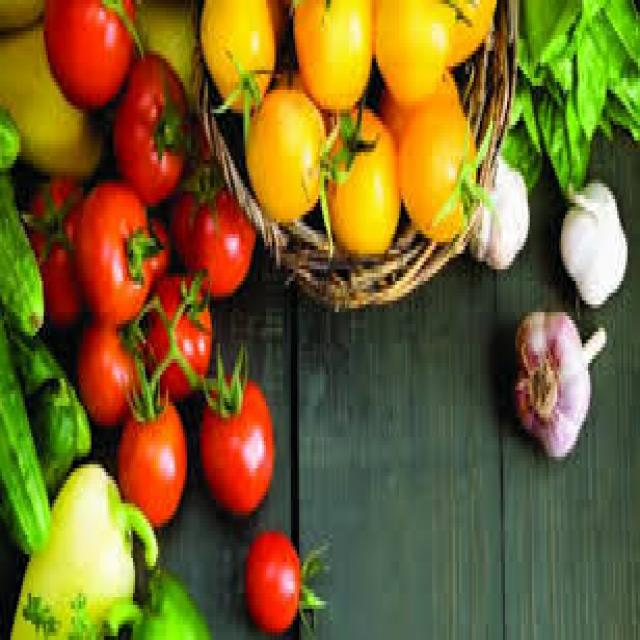organic waste: (8, 457, 154, 636), (521, 0, 638, 137), (0, 20, 102, 176), (168, 117, 254, 293), (511, 304, 607, 456), (397, 94, 490, 238), (198, 340, 272, 511), (108, 47, 187, 199), (5, 316, 90, 457), (70, 180, 154, 320), (318, 105, 399, 250), (0, 308, 48, 550), (243, 70, 320, 219), (114, 378, 185, 527), (37, 0, 132, 109), (19, 168, 81, 320), (197, 0, 282, 109), (243, 527, 328, 636), (143, 266, 210, 394), (557, 176, 625, 300), (289, 0, 368, 105), (372, 0, 455, 94), (106, 566, 208, 636), (128, 0, 197, 101), (465, 152, 526, 266), (380, 70, 453, 164), (75, 316, 139, 422), (0, 172, 42, 332), (208, 46, 258, 176), (23, 371, 75, 492), (532, 82, 588, 191), (521, 0, 577, 66), (505, 78, 540, 183), (23, 589, 98, 636), (444, 0, 494, 62), (574, 39, 604, 137), (600, 0, 637, 62), (148, 211, 166, 285), (0, 102, 19, 172), (0, 0, 39, 23)
